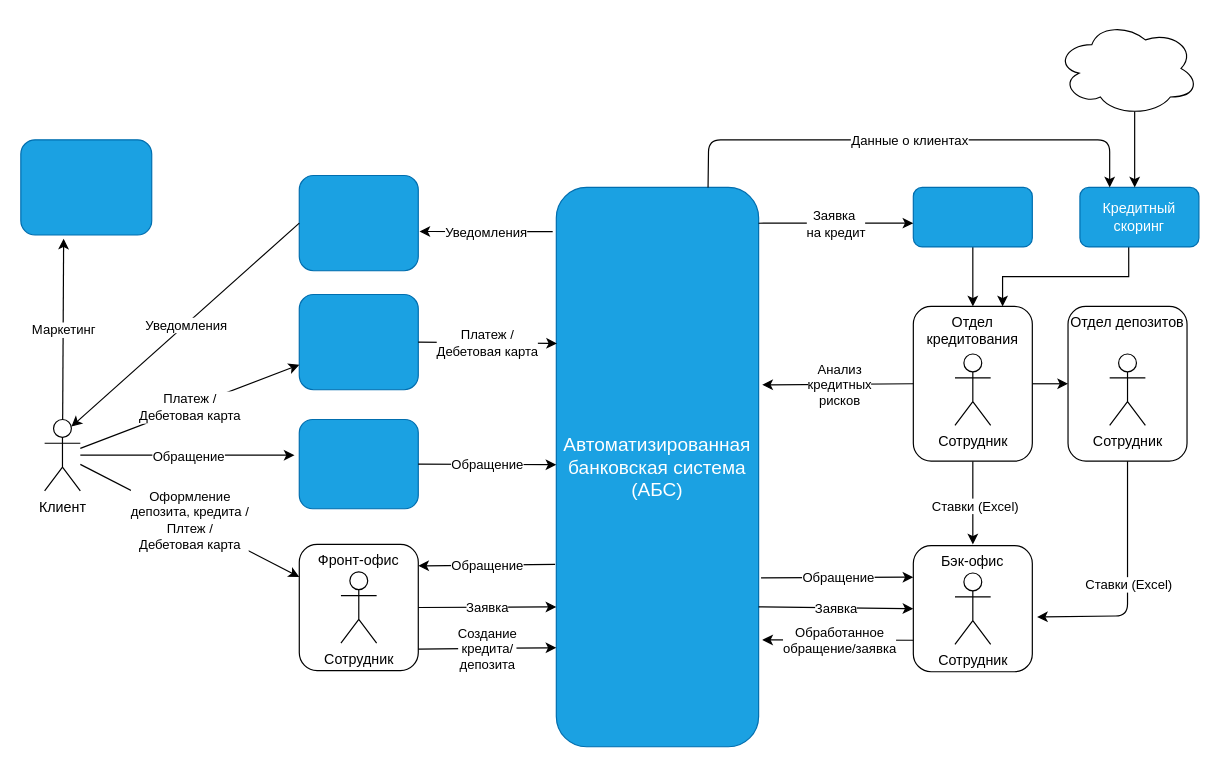
This 1220x768 diagram has some shape labels left out. Each missing label, with the centre of its shape:
"Данные из других систем" goes at (x=1127, y=68).
"Интернет-банк" goes at (x=358, y=341).
"Кредитный конвейер" goes at (x=972, y=216).
"Сайт" goes at (x=86, y=187).
"Система кол-центра" goes at (x=358, y=463).
"СМС-шлюз телеком-оператора" goes at (x=358, y=222).
